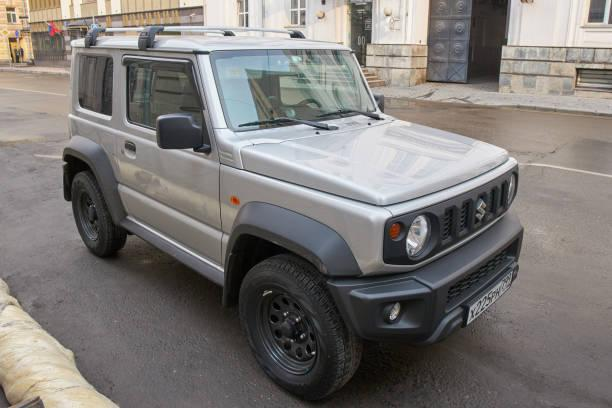suzuki: (469, 200, 496, 225)
